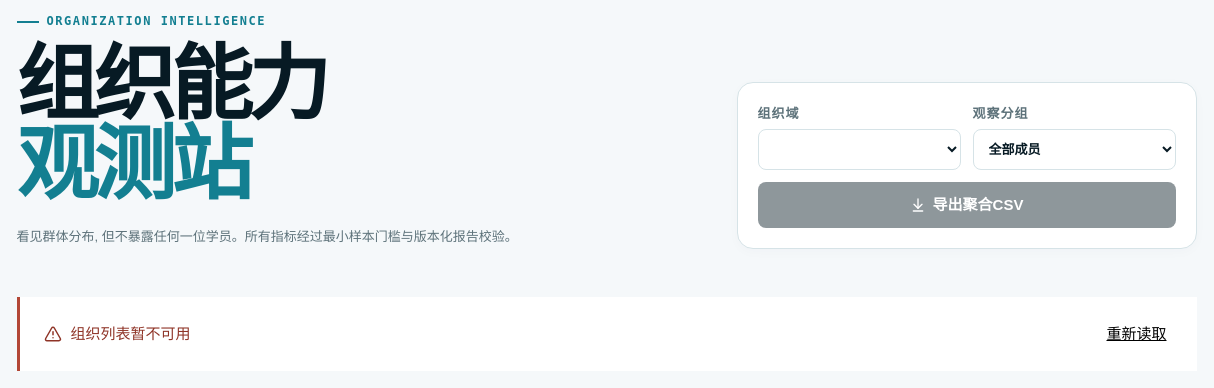
Scenario: OrganizationAnalyticsView › leaves loading and retries when the initial organization list fails
Check: the message "组织列表暂不可用 重新读取" is shown, box [16, 297, 1196, 371]
Click the button "重新读取": (1136, 334) [1100, 321, 1172, 347]
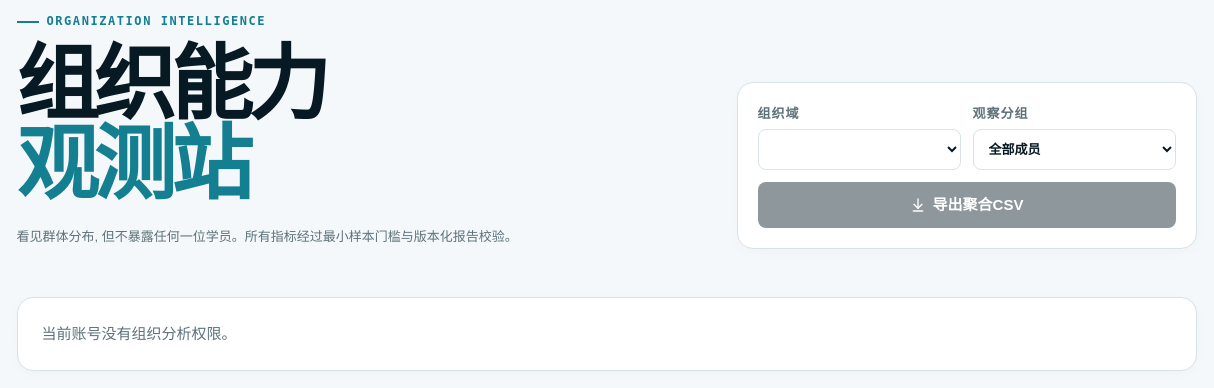
Check: the text "当前账号没有组织分析权限" is shown, box [42, 325, 236, 342]
